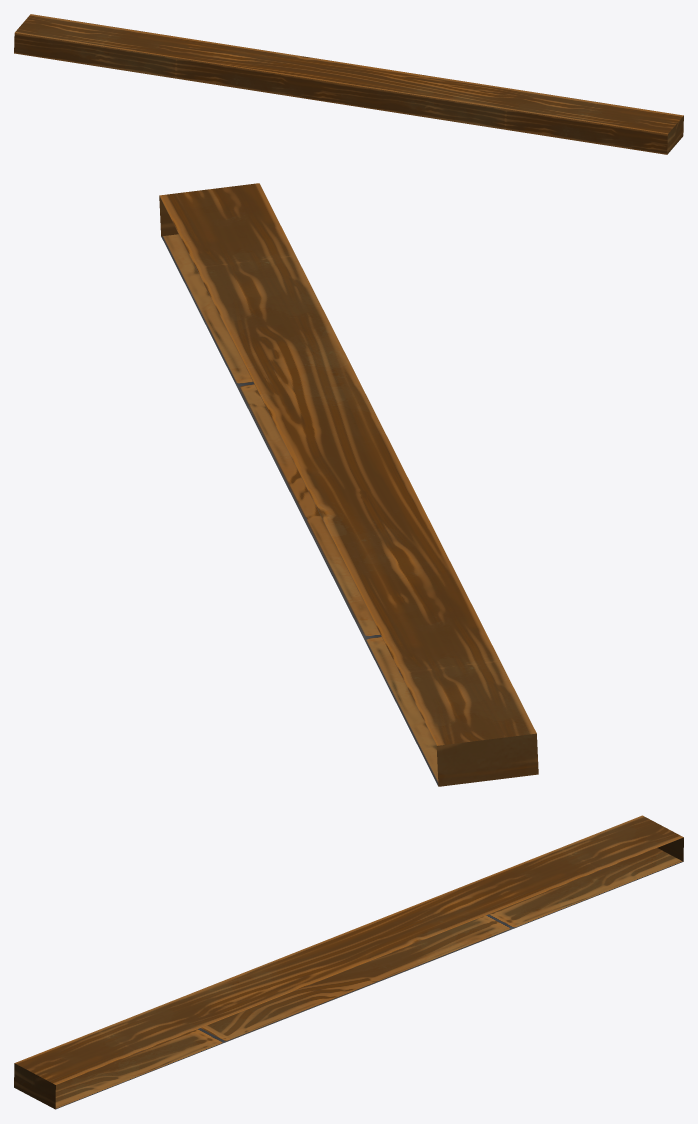
3 views of the same model, one above another, from view 1: azimuth 30°, elevation 25°; view 2: azimuth 150°, elevation 25°; view 3: azimuth 270°, elevation 25° (orthographic). The views are drawn at different scales.
Visible parts, largest first — view 1: Cube.730; view 2: Cube.730; view 3: Cube.730.
Part boxes in pixels (x1,y1,x2,y2): Cube.730: (14, 14, 683, 154); Cube.730: (159, 183, 538, 786); Cube.730: (14, 815, 683, 1109).
Size of the model in its own units: 548 by 38.9 by 606.
Materials: 1 (1 with a texture image).
